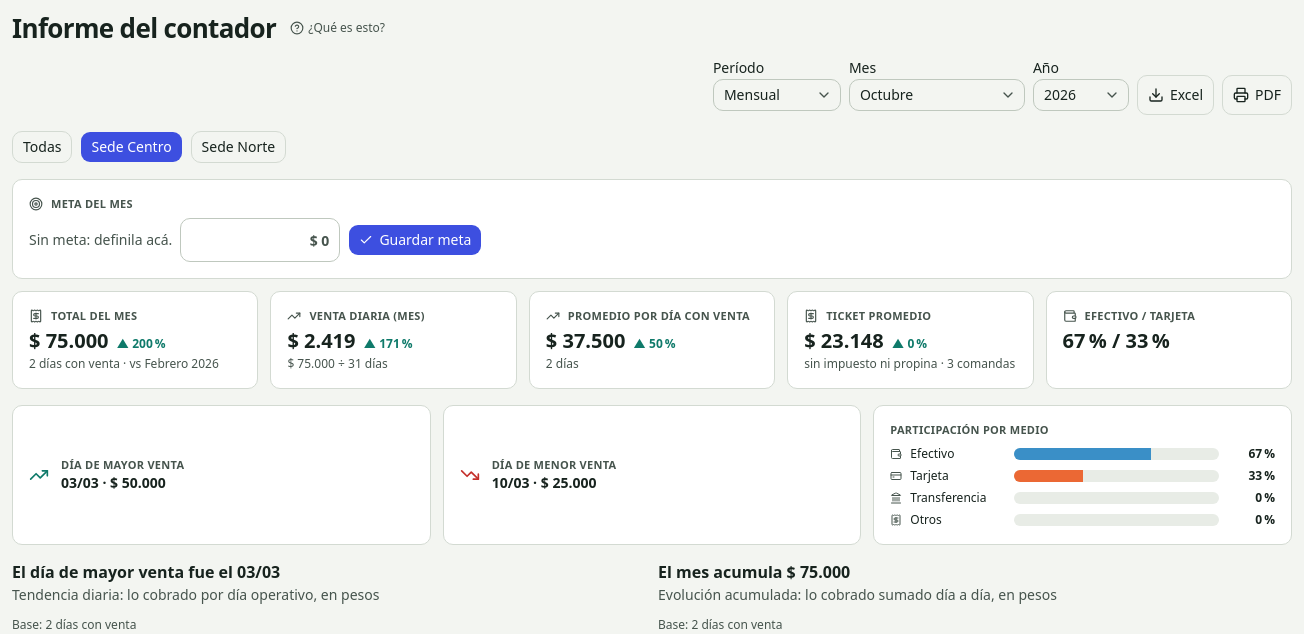
Scenario: Informe del contador (como café-sistema) › «Todas» pide store_id=all y la meta suma no se edita
Expected: the text "Total del mes" is shown, [51, 308, 137, 324]
Click the button "Todas". click: point(42, 146)
box: [12, 130, 72, 162]
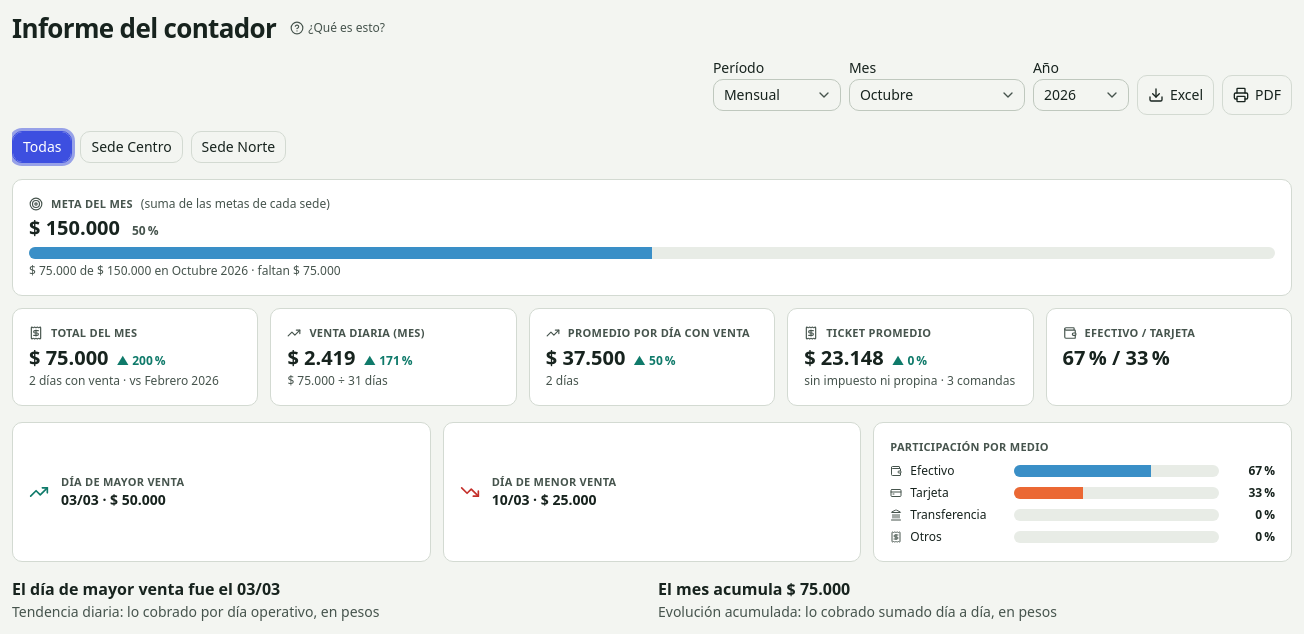
Expected: the text "(suma de las metas de cada sede)" is shown, [141, 196, 330, 212]
